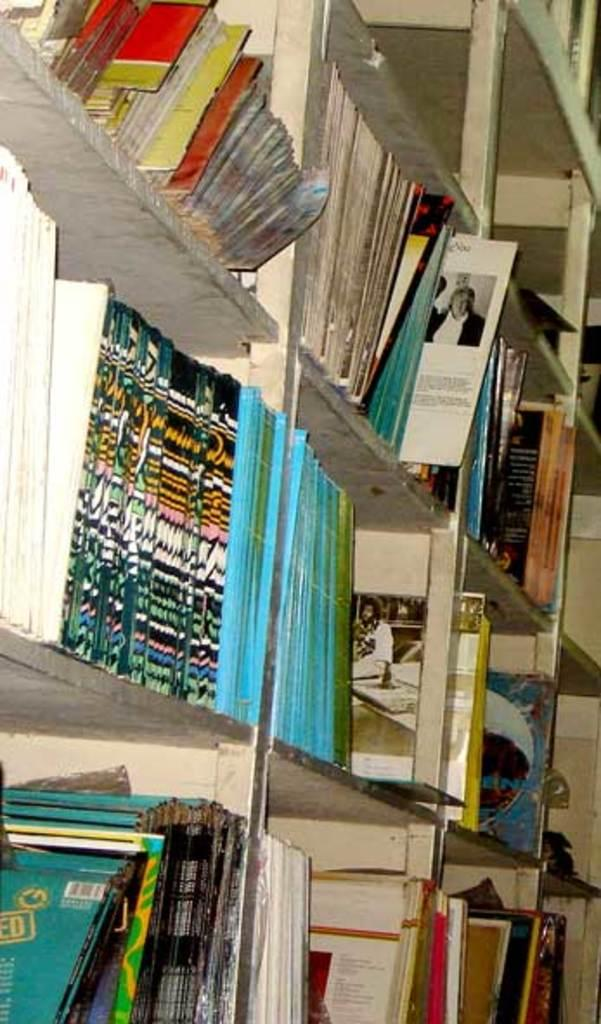Book: (0, 142, 286, 724), (293, 50, 509, 516), (0, 0, 331, 286), (272, 425, 443, 821), (0, 771, 222, 1022), (230, 814, 417, 1019), (454, 336, 578, 615), (438, 580, 553, 861), (421, 882, 578, 1022)
